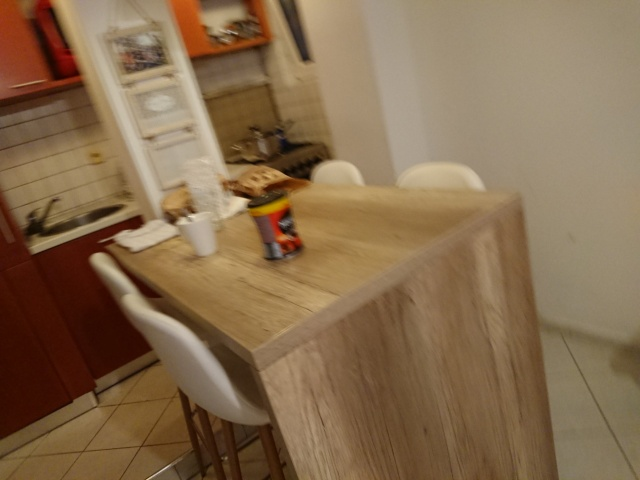Nescafe Classic 225g: (245, 188, 308, 265)
